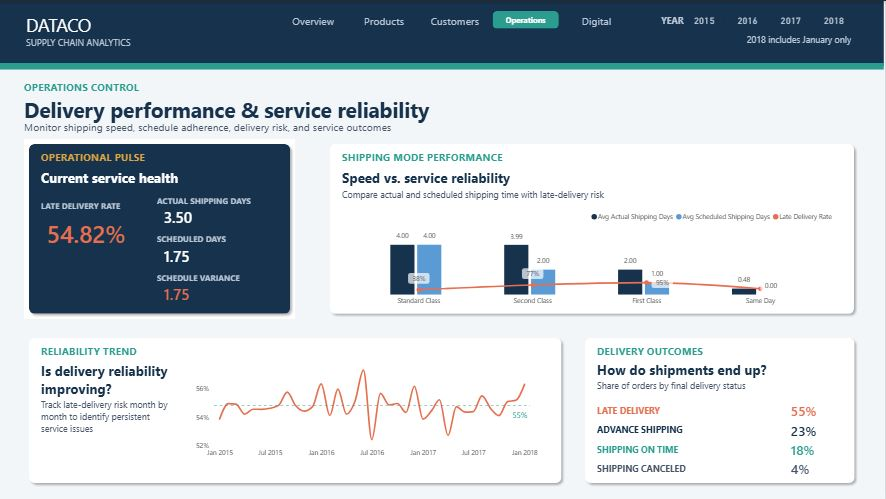

The page's visual inventory and layout, read from the dashboard file:
{"tool":"powerbi","page":{"name":"Operations","canvas":[1600,900],"ordinal":3},"visuals":[{"type":"shape","box":[0,0,1599.4,117.5],"z":0},{"type":"shape","box":[0,112,1599.4,12],"z":1000},{"type":"textbox","box":[48,22,500,65],"z":2000},{"type":"pageNavigator","box":[507.8,18,632.5,32.5],"z":3000},{"type":"textbox","box":[1195,25,45,30],"z":4000},{"type":"advancedSlicerVisual","fields":{"Values":["Dates.Year"]},"box":[1240,18,305,36],"z":5000},{"type":"textbox","box":[1330,60,210,21],"z":6000},{"type":"textbox","box":[45,142,340,25],"z":7000},{"type":"textbox","box":[45,172,750,49],"z":8000},{"type":"textbox","box":[45,215,900,30],"z":9000},{"type":"shape","box":[45,250,490,325],"z":10000},{"type":"textbox","box":[75,270,220,28],"z":11000},{"type":"textbox","box":[75,304,300,34],"z":12000},{"type":"textbox","box":[75,360,180,22],"z":13000},{"type":"cardVisual","fields":{"Data":["_Measures.Late Delivery Rate"]},"box":[70,385,200,70],"z":14000},{"type":"textbox","box":[285,350,180,21],"z":15000},{"type":"cardVisual","fields":{"Data":["_Measures.Avg Actual Shipping Days"]},"box":[282,372,150,35],"z":16000},{"type":"textbox","box":[285,420,180,21],"z":17000},{"type":"cardVisual","fields":{"Data":["_Measures.Avg Scheduled Shipping Days"]},"box":[282,442,150,35],"z":18000},{"type":"textbox","box":[285,490,175,21],"z":19000},{"type":"cardVisual","fields":{"Data":["_Measures.Schedule Variance Days"]},"box":[282,512,150,35],"z":20000},{"type":"shape","box":[590,250,965,325],"z":21000},{"type":"textbox","box":[620,270,300,28],"z":22000},{"type":"textbox","box":[620,304,500,34],"z":23000},{"type":"textbox","box":[619,340,620,24],"z":24000},{"type":"lineClusteredColumnComboChart","fields":{"Category":["Shipping.Shipping Mode"],"Y":["_Measures.Avg Actual Shipping Days","_Measures.Avg Scheduled Shipping Days"],"Y2":["_Measures.Late Delivery Rate"]},"box":[620,370,895,190],"z":25000},{"type":"shape","box":[45,600,980,280],"z":26000},{"type":"textbox","box":[75,620,240,25],"z":27000},{"type":"textbox","box":[75,653,245,64],"z":28000},{"type":"textbox","box":[75,720,245,65],"z":29000},{"type":"lineChart","fields":{"Category":["Dates.Month Start"],"Y":["_Measures.Late Delivery Rate"]},"box":[340,625,650,220],"z":30000},{"type":"shape","box":[1050,600,505,280],"z":31000},{"type":"textbox","box":[1080,620,220,25],"z":32000},{"type":"textbox","box":[1080,650,320,32],"z":33000},{"type":"textbox","box":[1080,685,350,24],"z":34000},{"type":"textbox","box":[1080,730,210,22],"z":35000},{"type":"cardVisual","fields":{"Data":["_Measures.Delivery Status Share"]},"box":[1415,725,90,30],"z":36000},{"type":"textbox","box":[1080,765,210,22],"z":37000},{"type":"cardVisual","fields":{"Data":["_Measures.Delivery Status Share"]},"box":[1415,760,90,30],"z":37001},{"type":"textbox","box":[1080,800,210,22],"z":37002},{"type":"cardVisual","fields":{"Data":["_Measures.Delivery Status Share"]},"box":[1415,795,90,30],"z":37003},{"type":"textbox","box":[1080,835,210,22],"z":37004},{"type":"cardVisual","fields":{"Data":["_Measures.Delivery Status Share"]},"box":[1415,830,90,30],"z":37005}]}

Visuals, with their boxes in screenshot pixels (x1, y1, x2, y2), scaled from the page's 1600x900 canvas onto the 886x499 screenshot:
shape: select_region(0, 0, 885, 65)
shape: select_region(0, 62, 885, 69)
textbox: select_region(27, 12, 303, 48)
pageNavigator: select_region(281, 10, 631, 28)
textbox: select_region(662, 14, 687, 30)
advancedSlicerVisual - Dates.Year: select_region(687, 10, 856, 30)
textbox: select_region(736, 33, 853, 45)
textbox: select_region(25, 79, 213, 93)
textbox: select_region(25, 95, 440, 123)
textbox: select_region(25, 119, 523, 136)
shape: select_region(25, 139, 296, 319)
textbox: select_region(42, 150, 163, 165)
textbox: select_region(42, 169, 208, 187)
textbox: select_region(42, 200, 141, 212)
cardVisual - _Measures.Late Delivery Rate: select_region(39, 213, 150, 252)
textbox: select_region(158, 194, 257, 206)
cardVisual - _Measures.Avg Actual Shipping Days: select_region(156, 206, 239, 226)
textbox: select_region(158, 233, 257, 245)
cardVisual - _Measures.Avg Scheduled Shipping Days: select_region(156, 245, 239, 264)
textbox: select_region(158, 272, 255, 283)
cardVisual - _Measures.Schedule Variance Days: select_region(156, 284, 239, 303)
shape: select_region(327, 139, 861, 319)
textbox: select_region(343, 150, 509, 165)
textbox: select_region(343, 169, 620, 187)
textbox: select_region(343, 189, 686, 202)
lineClusteredColumnComboChart - Shipping.Shipping Mode x _Measures.Avg Actual Shipping Days: select_region(343, 205, 839, 310)
shape: select_region(25, 333, 568, 488)
textbox: select_region(42, 344, 174, 358)
textbox: select_region(42, 362, 177, 398)
textbox: select_region(42, 399, 177, 435)
lineChart - Dates.Month Start x _Measures.Late Delivery Rate: select_region(188, 347, 548, 469)
shape: select_region(581, 333, 861, 488)
textbox: select_region(598, 344, 720, 358)
textbox: select_region(598, 360, 775, 378)
textbox: select_region(598, 380, 792, 393)
textbox: select_region(598, 405, 714, 417)
cardVisual - _Measures.Delivery Status Share: select_region(784, 402, 833, 419)
textbox: select_region(598, 424, 714, 436)
cardVisual - _Measures.Delivery Status Share: select_region(784, 421, 833, 438)
textbox: select_region(598, 444, 714, 456)
cardVisual - _Measures.Delivery Status Share: select_region(784, 441, 833, 457)
textbox: select_region(598, 463, 714, 475)
cardVisual - _Measures.Delivery Status Share: select_region(784, 460, 833, 477)
